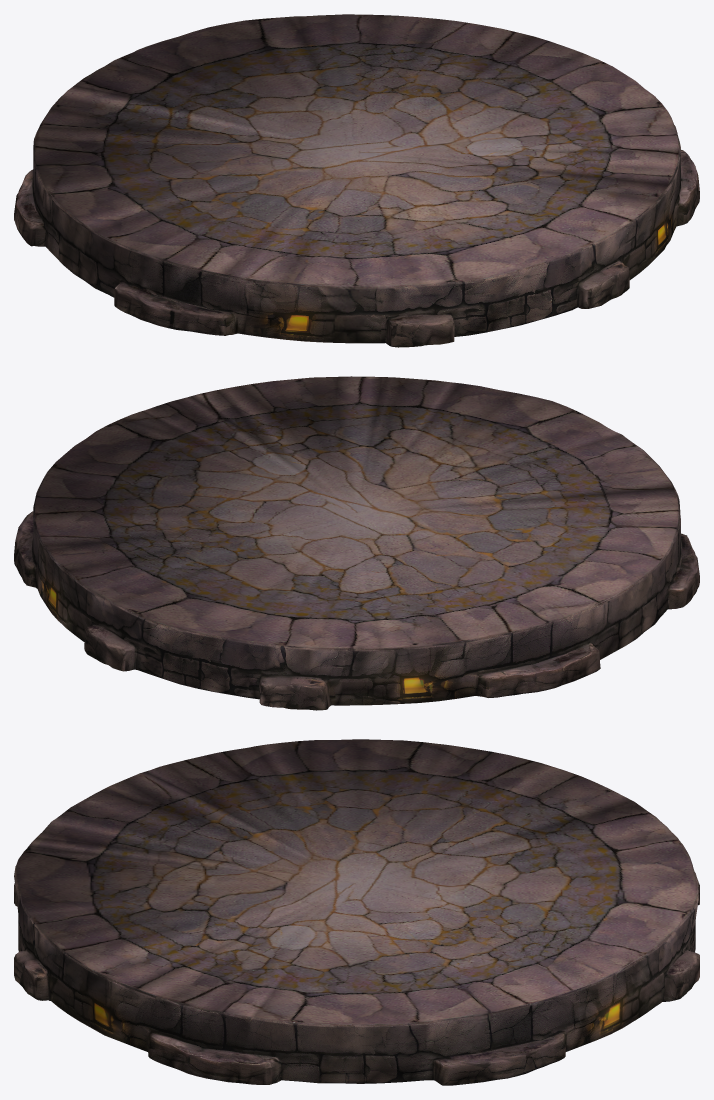
The model's file is Meshy_AI_Ember_lit_Circular_St_0329232322_texture.fbx.
3 renders of one model, top to bottom at view 1: azimuth 30°, elevation 25°; view 2: azimuth 150°, elevation 25°; view 3: azimuth 270°, elevation 25°, orthographic. The views are drawn at different scales.
Parts seen in each view (by area): view 1: Mesh_0; view 2: Mesh_0; view 3: Mesh_0.
Part boxes in pixels (bbox=[...]): Mesh_0: bbox=[14, 14, 699, 347]; Mesh_0: bbox=[14, 376, 699, 710]; Mesh_0: bbox=[14, 739, 699, 1085].
Bounding box in the file's own units: 190 × 18 × 190.
1 material, 1 textured.
